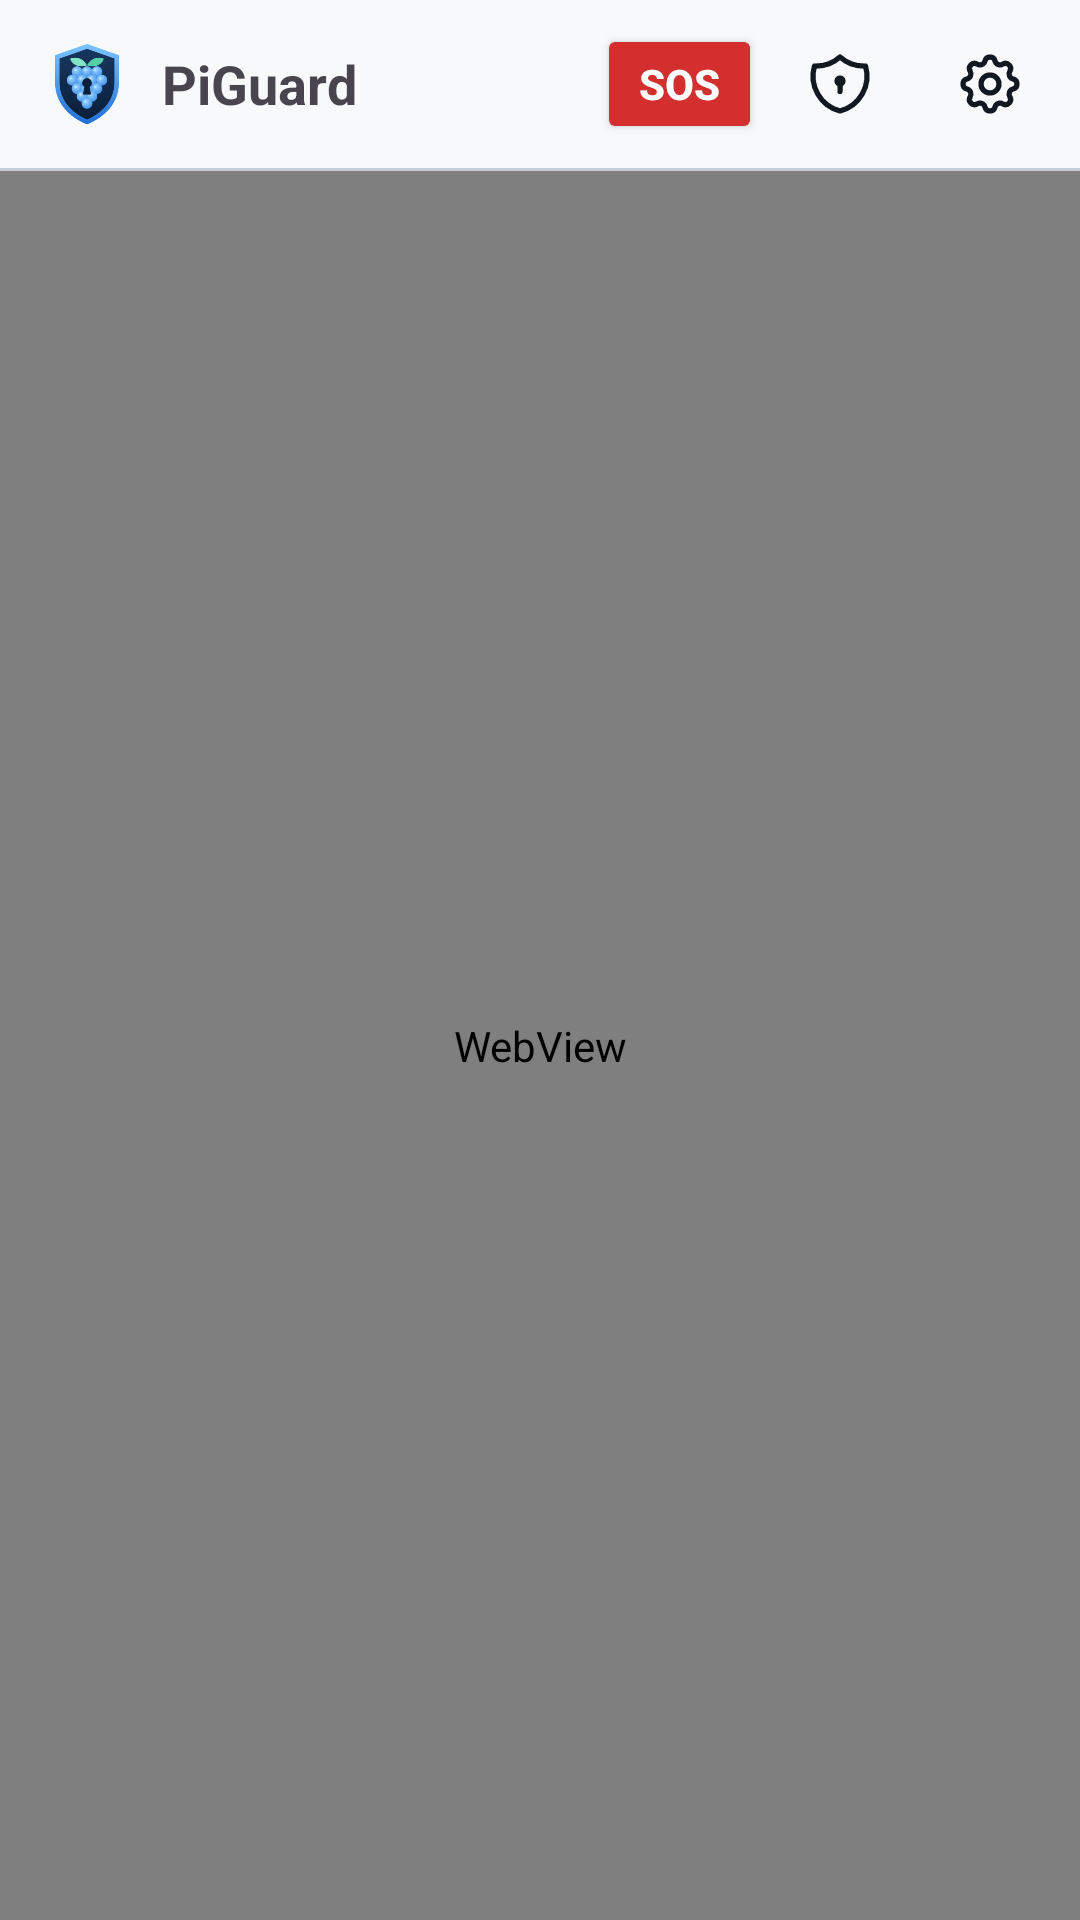

Locate icon controls on the screen. Image size 1080px x 1920px, boxes as (x1, y1, x2, y2).
App settings: (960, 54, 1020, 114)
VPN: (810, 54, 870, 114)
